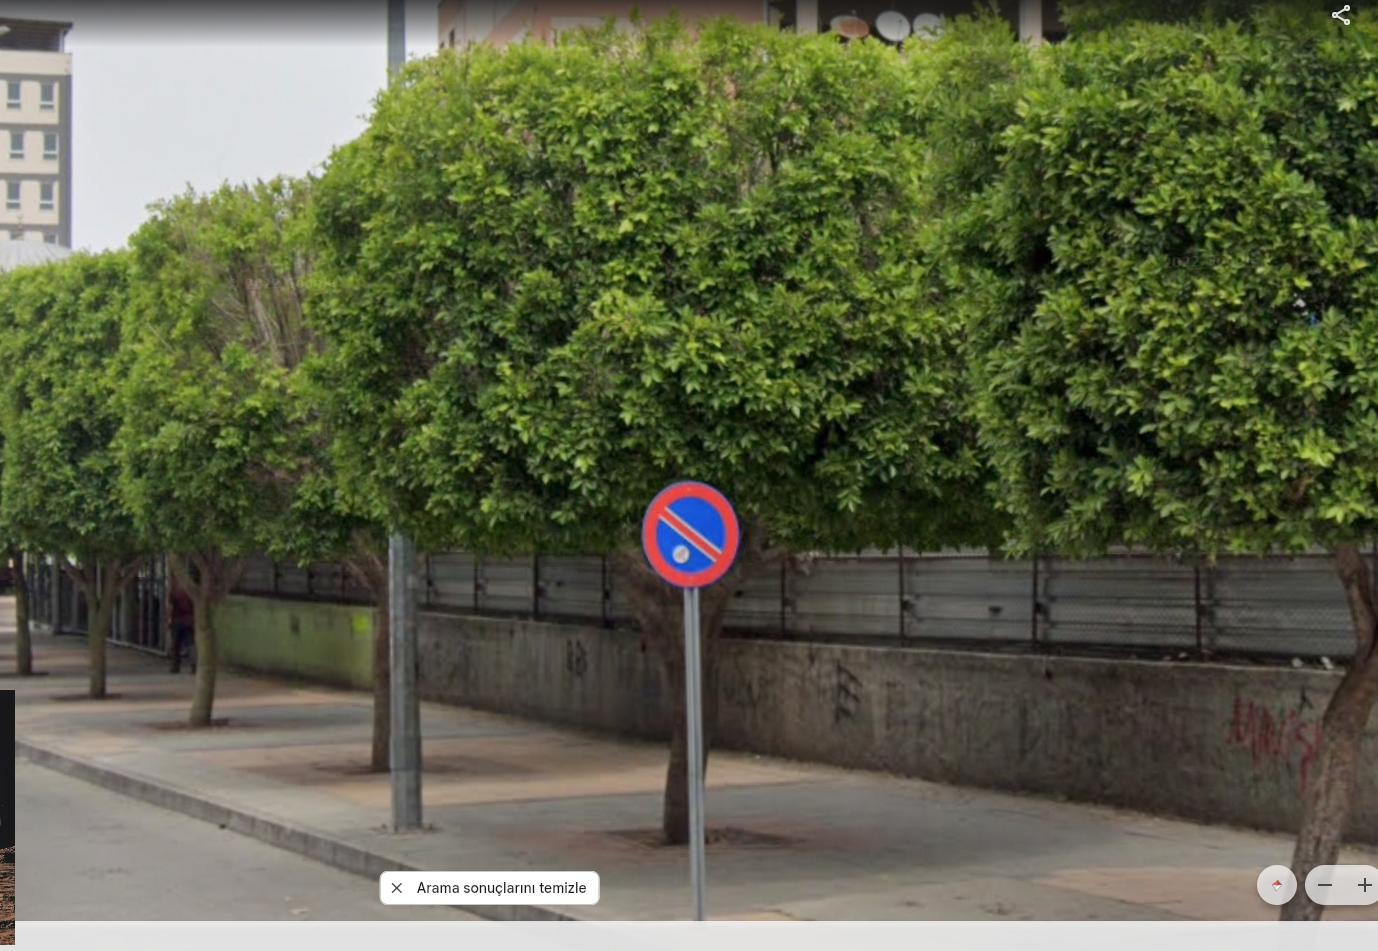nopark: (647, 479, 739, 584)
